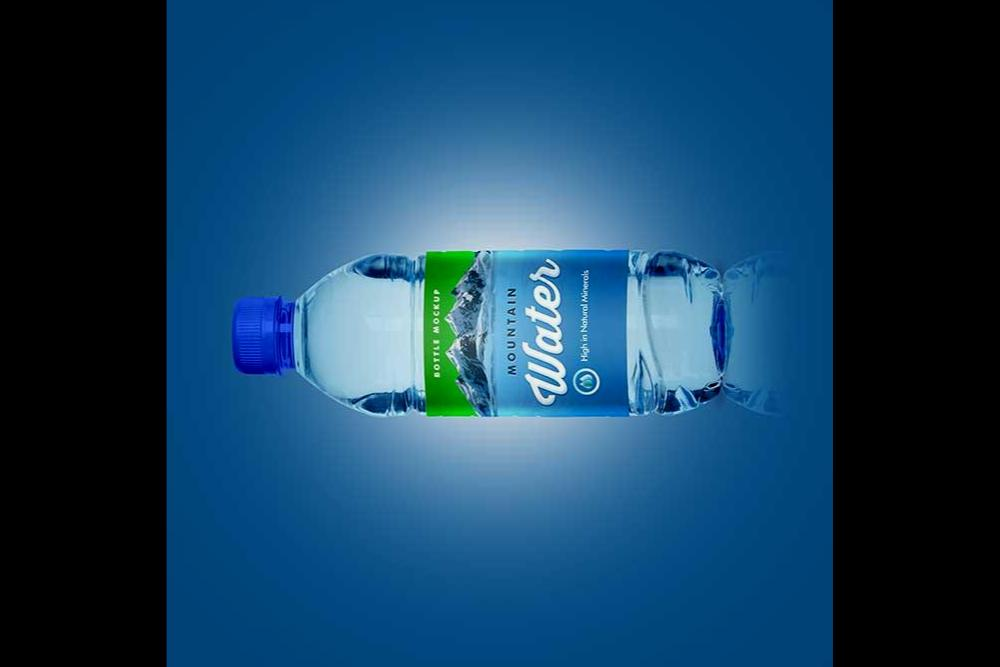bottle: (212, 241, 738, 428)
